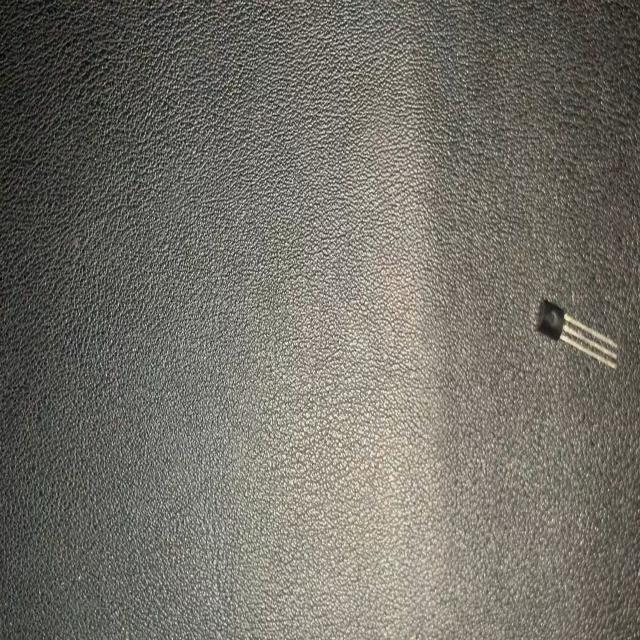BJT: (531, 291, 622, 373)
